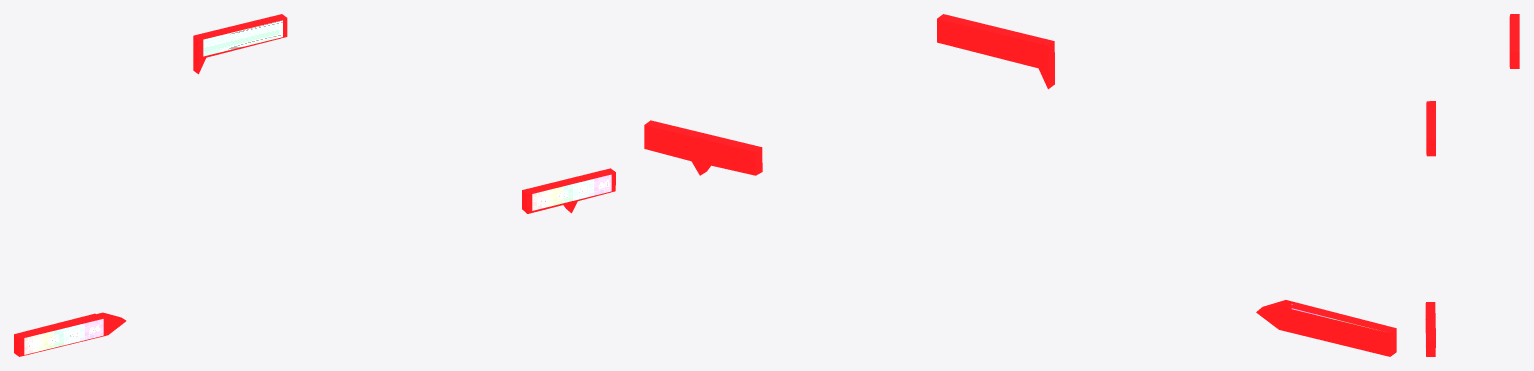
The model's file is hps.glb.
3 views of the same model, side by side, from view 1: azimuth 30°, elevation 25°; view 2: azimuth 150°, elevation 25°; view 3: azimuth 270°, elevation 25° (orthographic). The views are drawn at different scales.
Visible parts, largest first — view 1: cote_content, haut_content, dessus_content; view 2: cote_content, haut_content, dessus_content; view 3: haut_content, dessus_content, cote_content.
Part boxes in pixels (x1,y1,x2,y2): cote_content: [14, 312, 126, 356]; haut_content: [193, 14, 287, 74]; dessus_content: [522, 168, 615, 213]; cote_content: [1256, 300, 1396, 356]; haut_content: [937, 14, 1054, 89]; dessus_content: [644, 120, 762, 175]; haut_content: [1509, 14, 1519, 68]; dessus_content: [1425, 302, 1435, 356]; cote_content: [1426, 101, 1435, 156].
Size of the model in its own units: 13.42 by 4.9 by 2.07.
